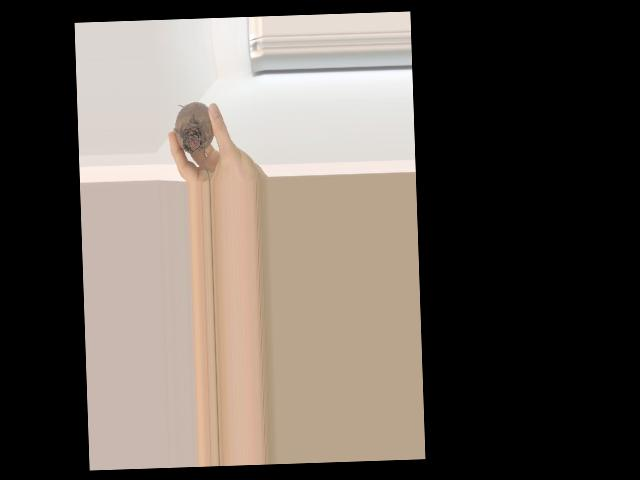beet: (172, 100, 216, 183)
